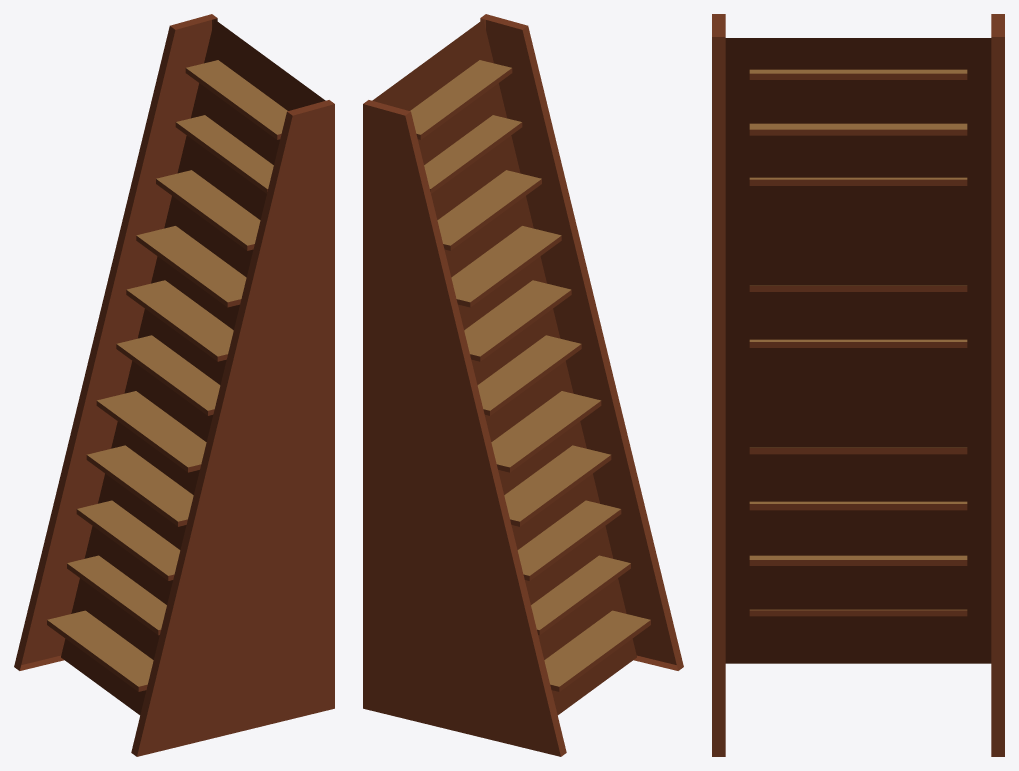
File: Stairs.gltf
3 views of the same model, side by side, from view 1: azimuth 30°, elevation 25°; view 2: azimuth 150°, elevation 25°; view 3: azimuth 270°, elevation 25° (orthographic). The views are drawn at different scales.
Visible parts, largest first — view 1: plane (×3), cuboid (×11); view 2: plane (×3), cuboid (×11); view 3: plane (×3), cuboid (×9).
Boxes of the visible parts, x1,y1,x2,y2 form: plane (×3): (14,14,334,756); cuboid (×11): (47,60,287,691); plane (×3): (363,14,683,756); cuboid (×11): (410,60,650,691); plane (×3): (712,14,1004,756); cuboid (×9): (749,69,967,616).
Bounding box in the file's own units: 0.125 × 0.3647 × 0.1344.
1 material, 1 textured.
